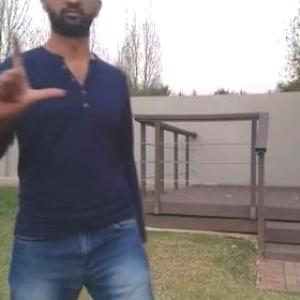land_hand: (0, 19, 74, 129)
